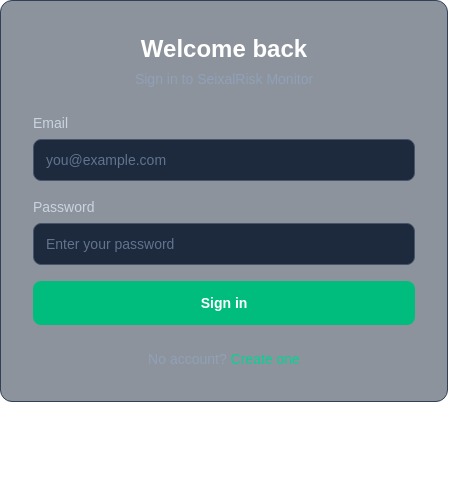
Scenario: LoginPage › handles network error during login submission
The image size is (465, 481).
Type "test@example.com" into the field labelled "Email".
click(224, 160); type("test@example.com")  # box [33,139,415,181]
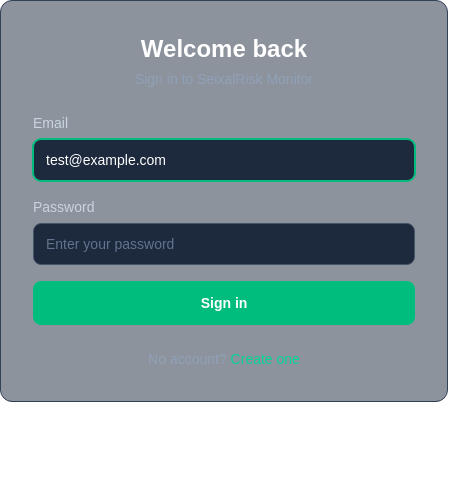
Type "password123" into the password field labelled "Password".
click(224, 244); type("password123")  # box [33,223,415,265]
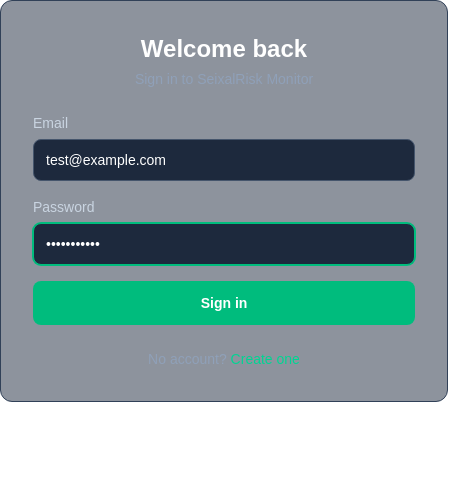
Click the button "Sign in".
click(224, 303)  # box [33,281,415,325]
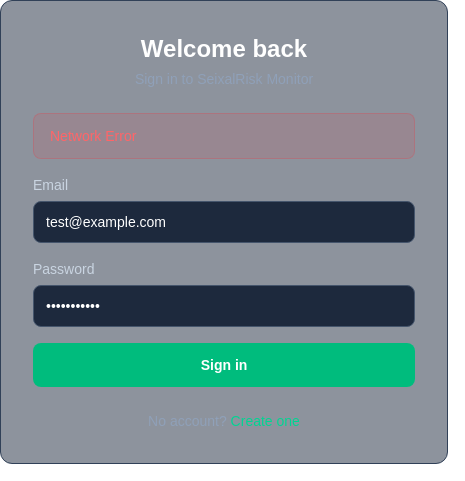
Expected: the text "Network Error" is shown, [33,113,415,159]
